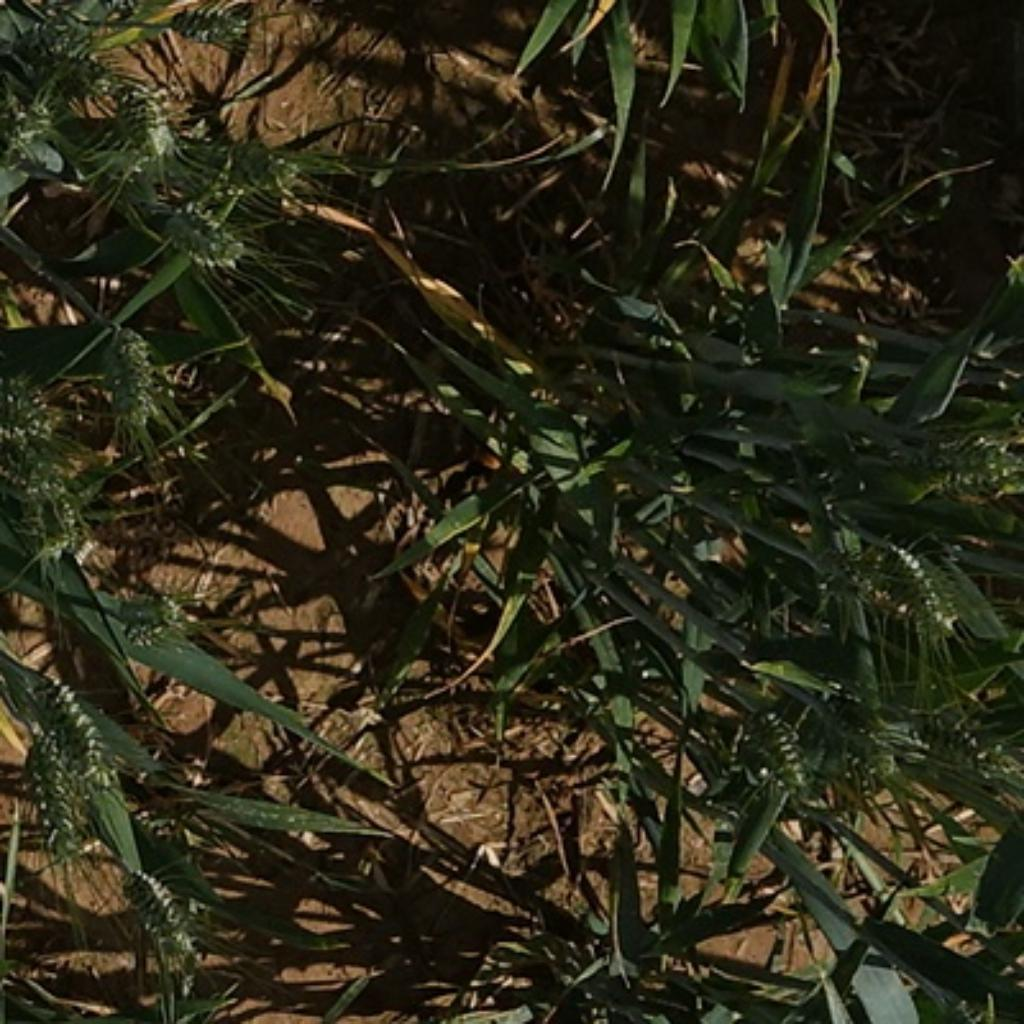0-0: (25, 670, 140, 798), (0, 353, 87, 504), (166, 120, 304, 207), (900, 692, 1021, 791), (871, 531, 974, 643), (20, 460, 112, 583), (122, 860, 214, 975), (726, 697, 816, 814), (811, 552, 939, 634), (94, 71, 176, 184), (95, 317, 176, 429), (34, 733, 95, 879), (0, 0, 110, 78), (911, 437, 1024, 507), (816, 711, 897, 807), (153, 194, 250, 271), (102, 578, 197, 647), (0, 94, 66, 179), (161, 0, 265, 43)
